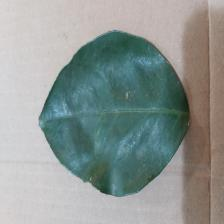healthy: (22, 30, 202, 199)
